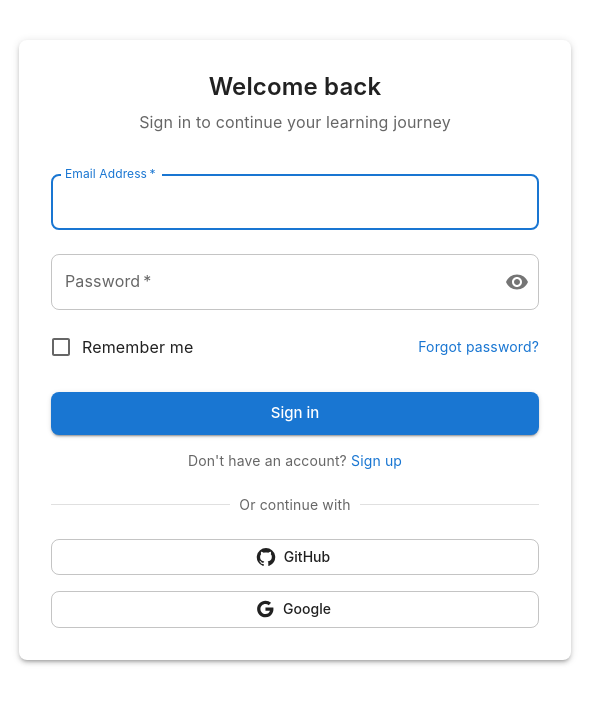
Test: LoginPage › should show validation error for invalid email
Type "invalid-email" into the field labelled "Email Address *" at (295, 202), box [51, 174, 539, 230]
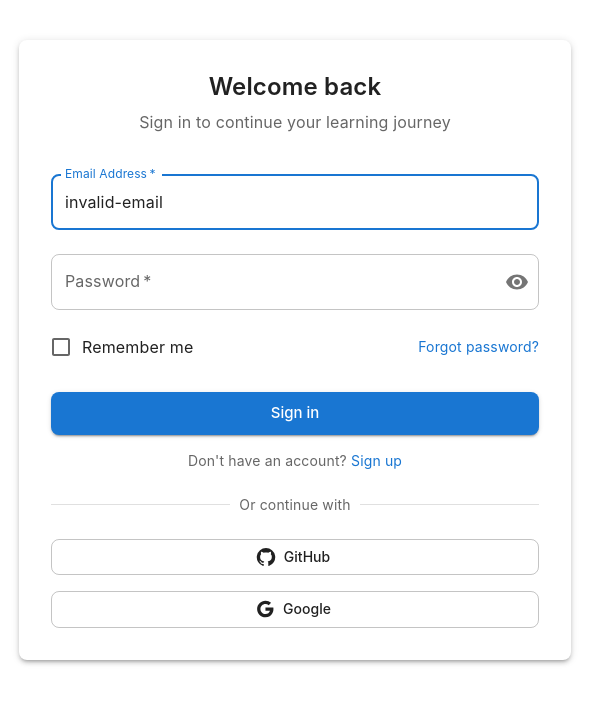
Click the button "Sign in" at (295, 414), box [51, 392, 539, 435]
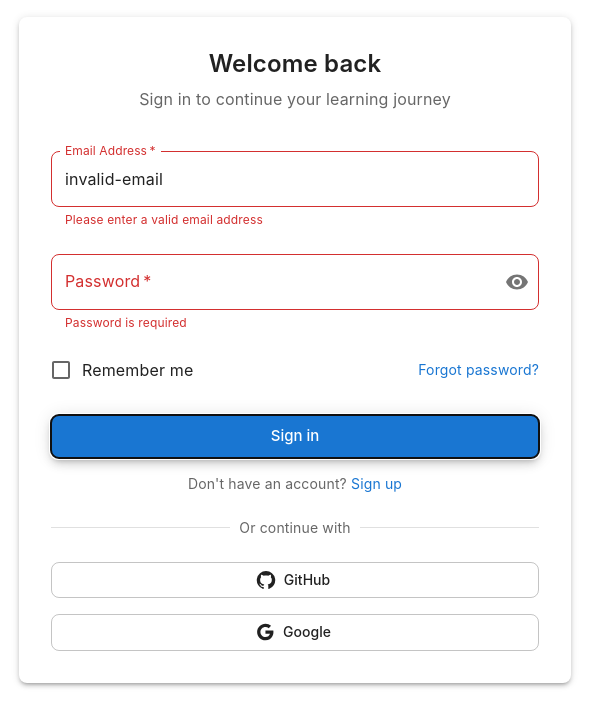
Result: the text "Please enter a valid email address" is shown at [65, 212, 263, 228]
